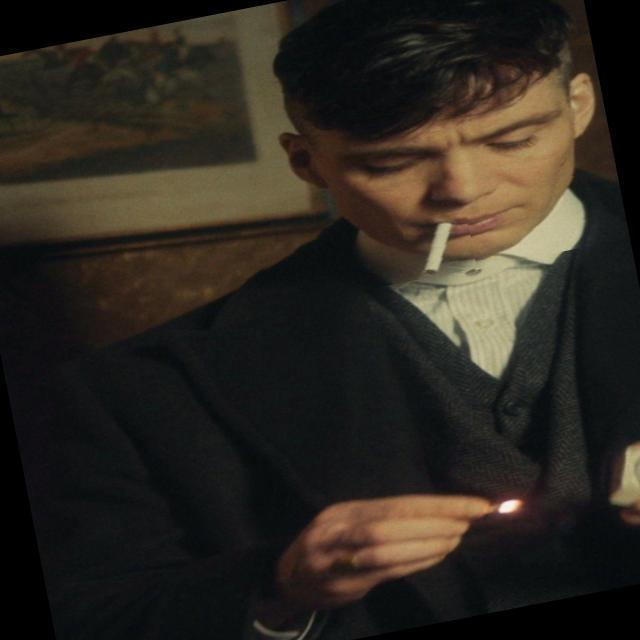cigarette: (400, 209, 477, 280)
